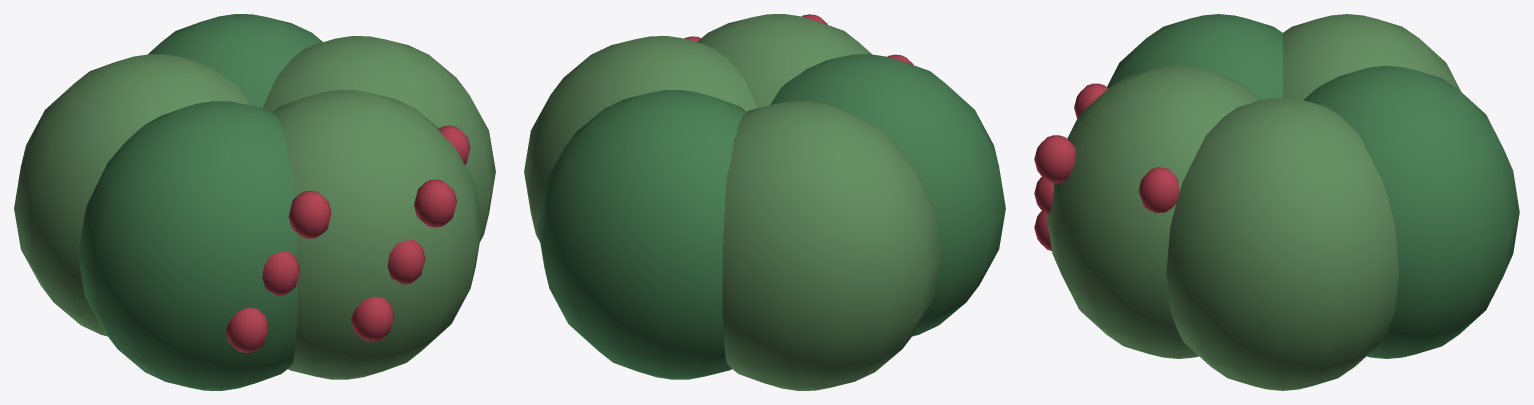
Rendered from berry.glb.
3 views of the same model, side by side, from view 1: azimuth 30°, elevation 25°; view 2: azimuth 150°, elevation 25°; view 3: azimuth 270°, elevation 25° (orthographic).
Parts seen in each view (by area): view 1: berry; view 2: berry; view 3: berry.
Boxes of the visible parts, x1,y1,x2,y2 form: berry: (14, 14, 495, 390); berry: (524, 14, 1005, 390); berry: (1034, 14, 1519, 390).
Bounding box in the file's own units: 1.86 × 1.14 × 1.86.
